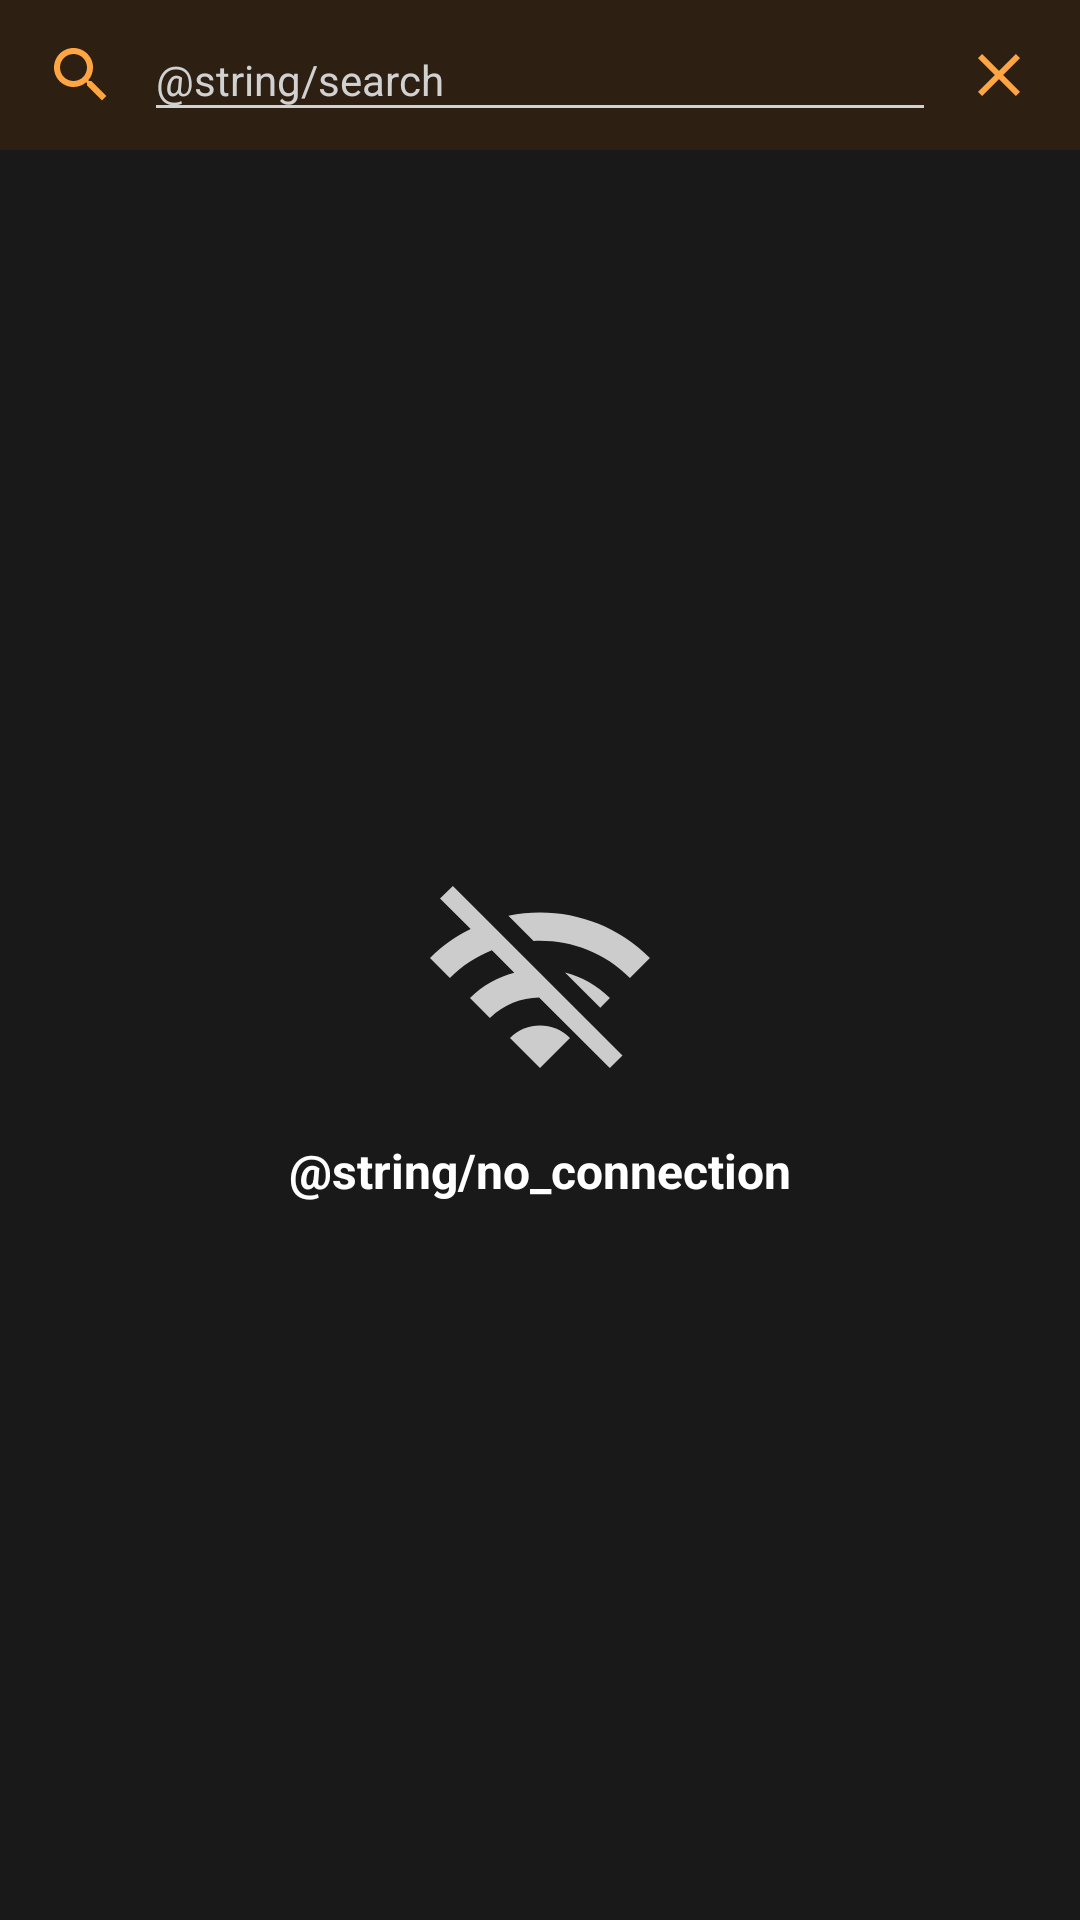

Named icons in this screenshot (1080 × 1920) and their bounding boxes, (x1, y1, x2, y2):
close: (978, 54, 1020, 96)
search: (54, 48, 106, 100)
